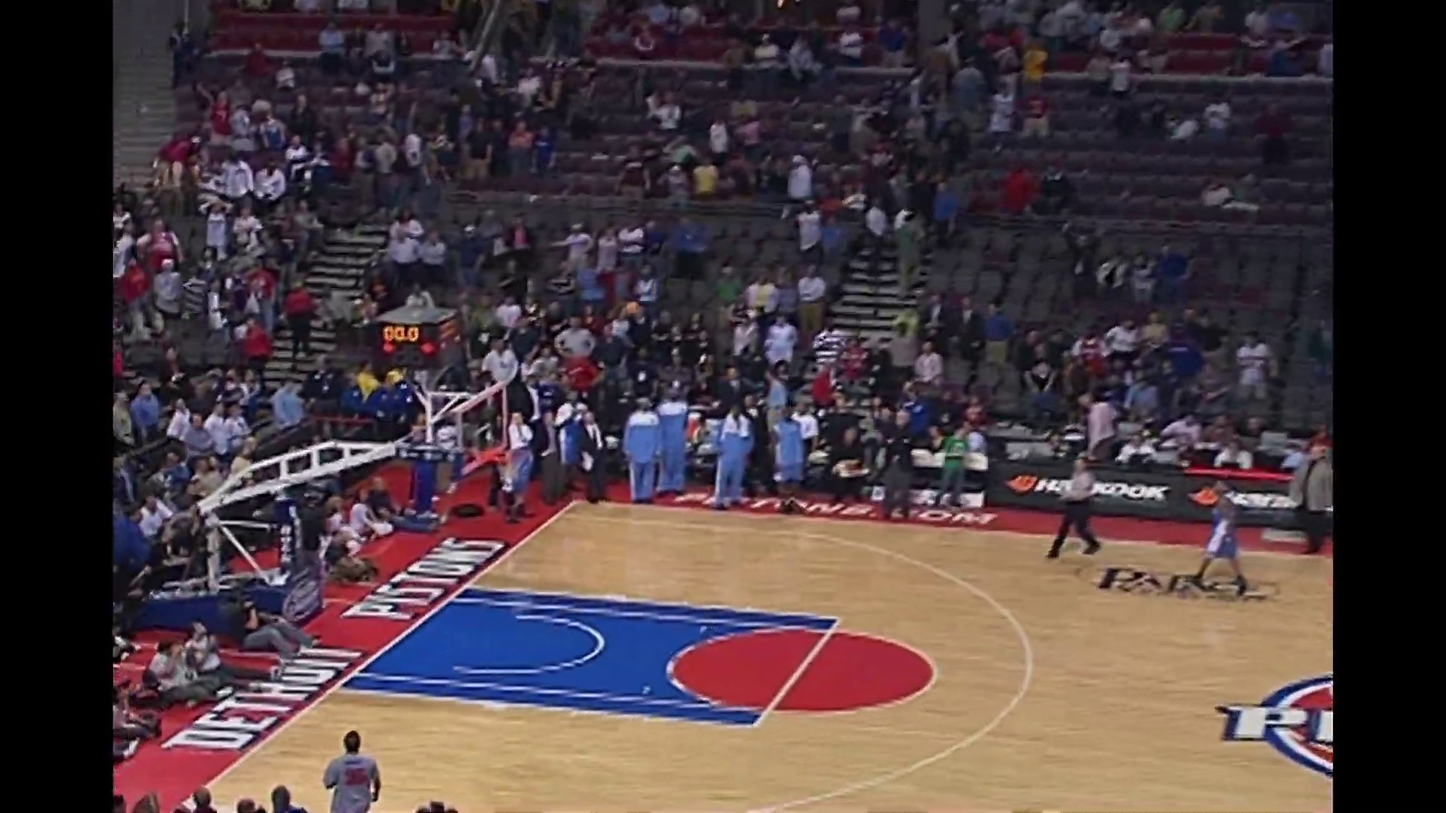basket_hoop: (419, 373, 582, 504)
